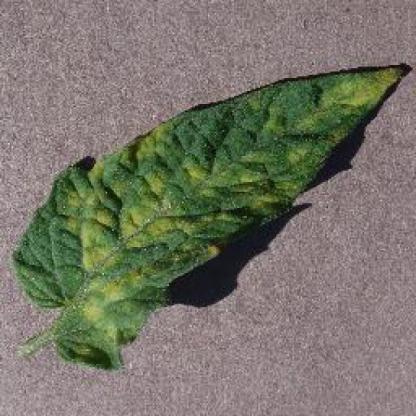Tomato_Leaf_Mold: (46, 62, 402, 364)
